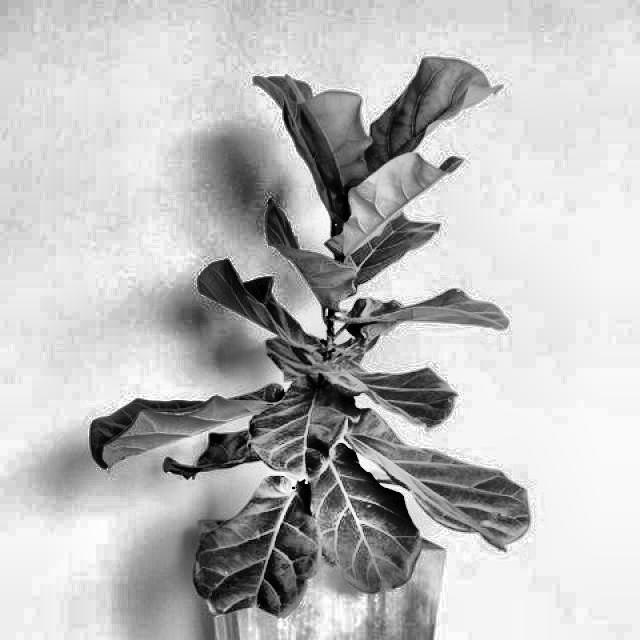plants: (113, 90, 486, 545)
